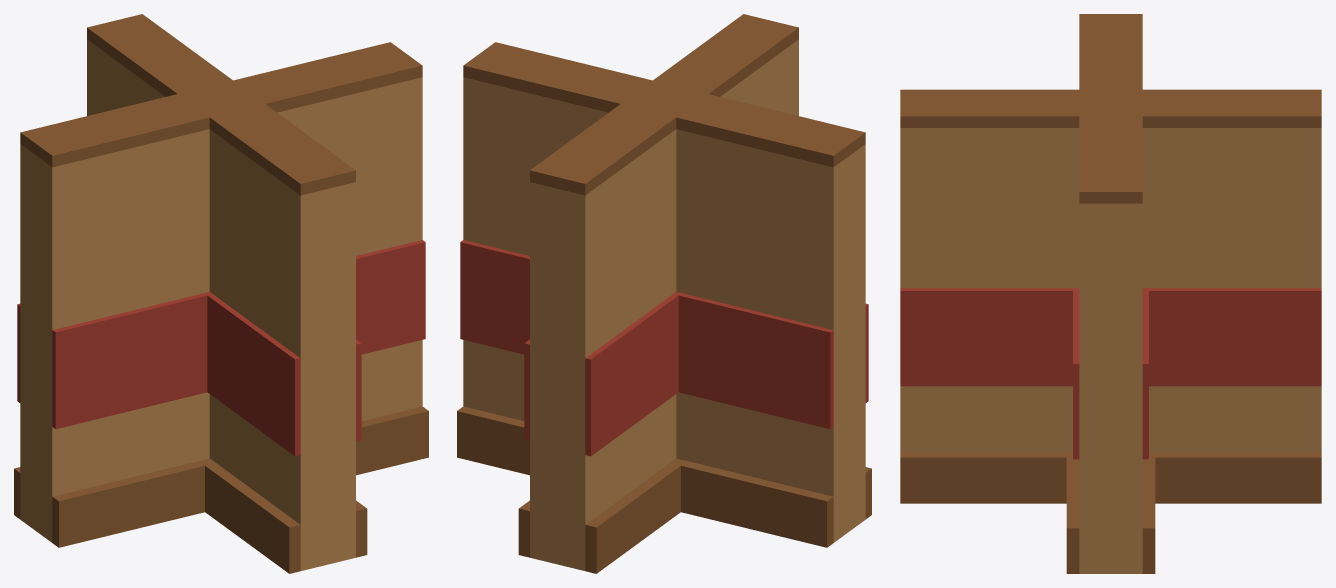
The model's file is partition-full-cross.glb.
3 views of the same model, side by side, from view 1: azimuth 30°, elevation 25°; view 2: azimuth 150°, elevation 25°; view 3: azimuth 270°, elevation 25° (orthographic).
Parts seen in each view (by area): view 1: partition-full-cross; view 2: partition-full-cross; view 3: partition-full-cross.
Part boxes in pixels (x1,y1,x2,y2): partition-full-cross: [14, 14, 428, 573]; partition-full-cross: [457, 14, 871, 573]; partition-full-cross: [900, 14, 1321, 573].
Size of the model in its own units: 1 by 1 by 1.
Materials: 1 (1 with a texture image).
